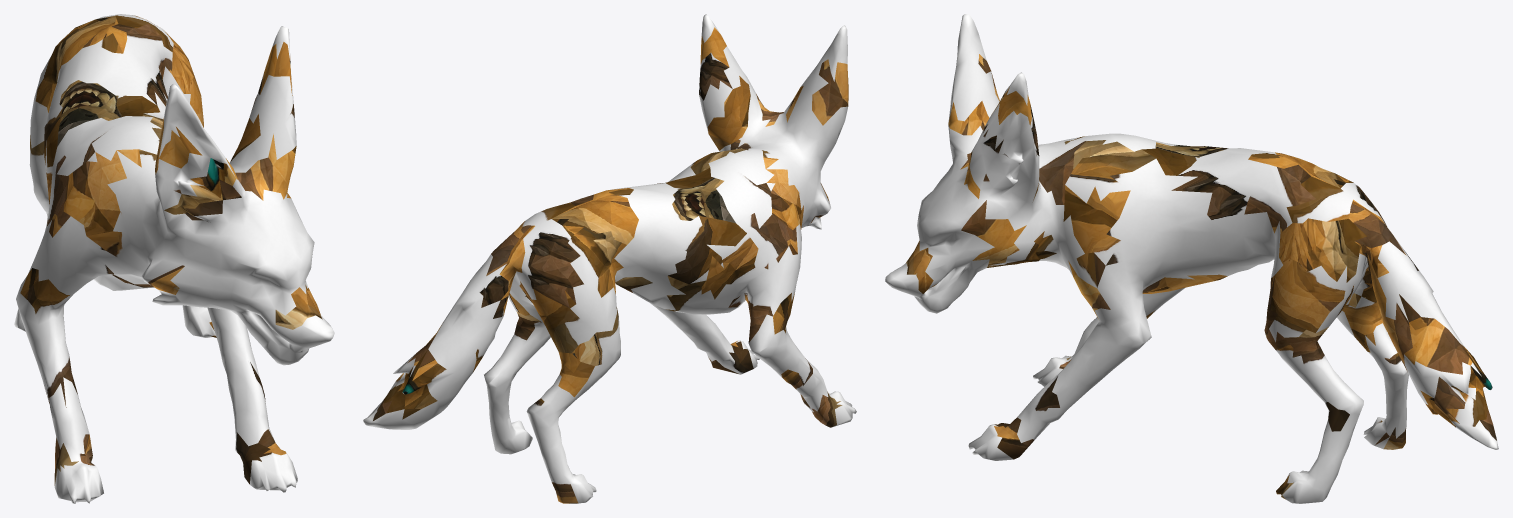
The model's file is sand_jackal_basic_5k.fbx.
The picture shows the model from 3 angles, left to right: view 1: azimuth 30°, elevation 25°; view 2: azimuth 150°, elevation 25°; view 3: azimuth 270°, elevation 25°; orthographic projection. The views are drawn at different scales.
Visible parts, largest first — view 1: sand_jackal_basic_decimated; view 2: sand_jackal_basic_decimated; view 3: sand_jackal_basic_decimated.
Part boxes in pixels (bbox=[...]): sand_jackal_basic_decimated: bbox=[14, 14, 334, 503]; sand_jackal_basic_decimated: bbox=[363, 14, 856, 503]; sand_jackal_basic_decimated: bbox=[885, 14, 1498, 503].
Size of the model in its own units: 1.15 by 1.33 by 1.91.
